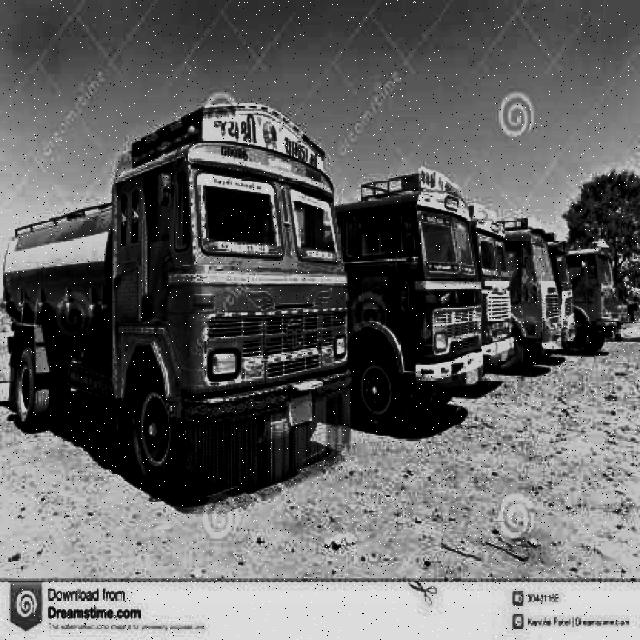HCV: (12, 129, 341, 475), (334, 177, 489, 435), (477, 209, 571, 348)
